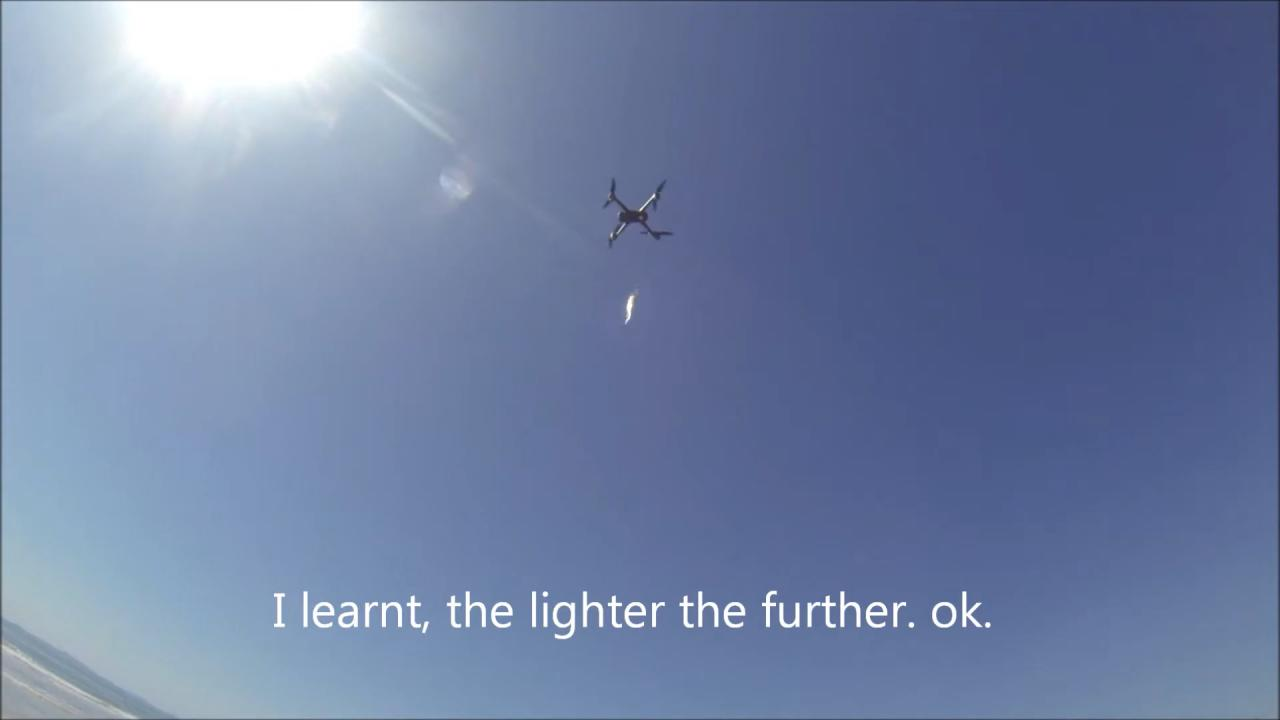Drone: (588, 168, 684, 262)
